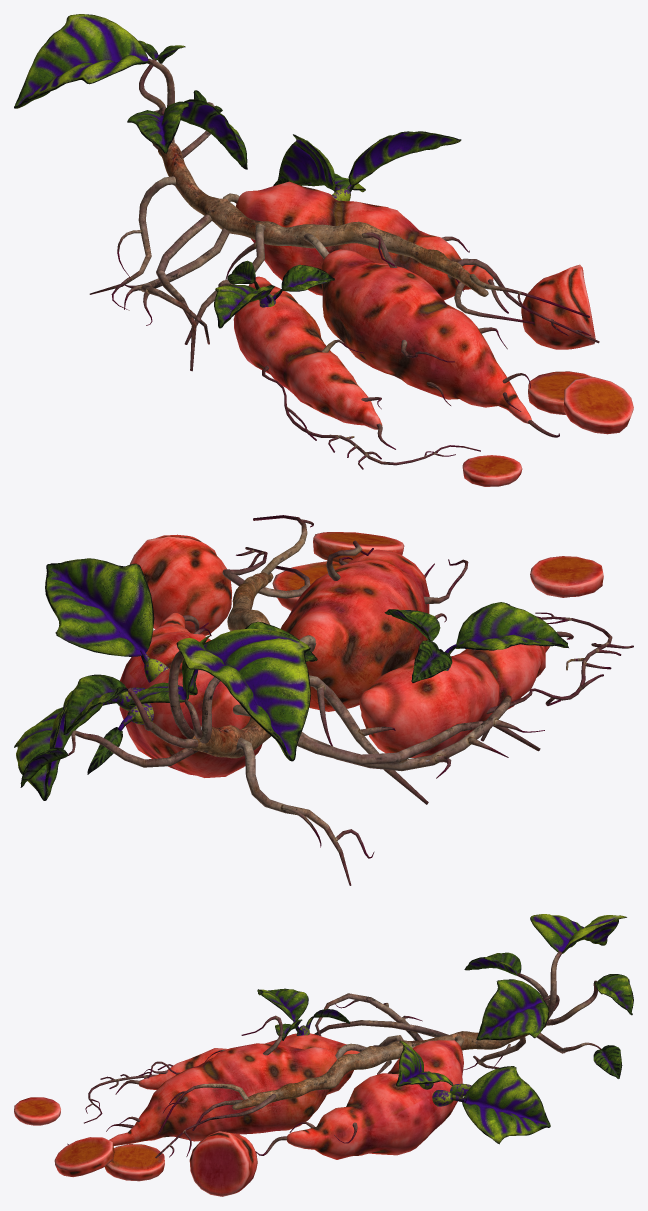
3 renders of one model, top to bottom at view 1: azimuth 30°, elevation 25°; view 2: azimuth 150°, elevation 25°; view 3: azimuth 270°, elevation 25°, orthographic. The views are drawn at different scales.
Parts seen in each view (by area): view 1: leaves_LOW_0; view 2: leaves_LOW_0; view 3: leaves_LOW_0.
Part boxes in pixels (x1,y1,x2,y2): leaves_LOW_0: (14, 14, 633, 486); leaves_LOW_0: (14, 515, 633, 885); leaves_LOW_0: (14, 914, 633, 1196).
Size of the model in its own units: 15.26 by 8.21 by 25.94.
5 materials, 5 textured.
